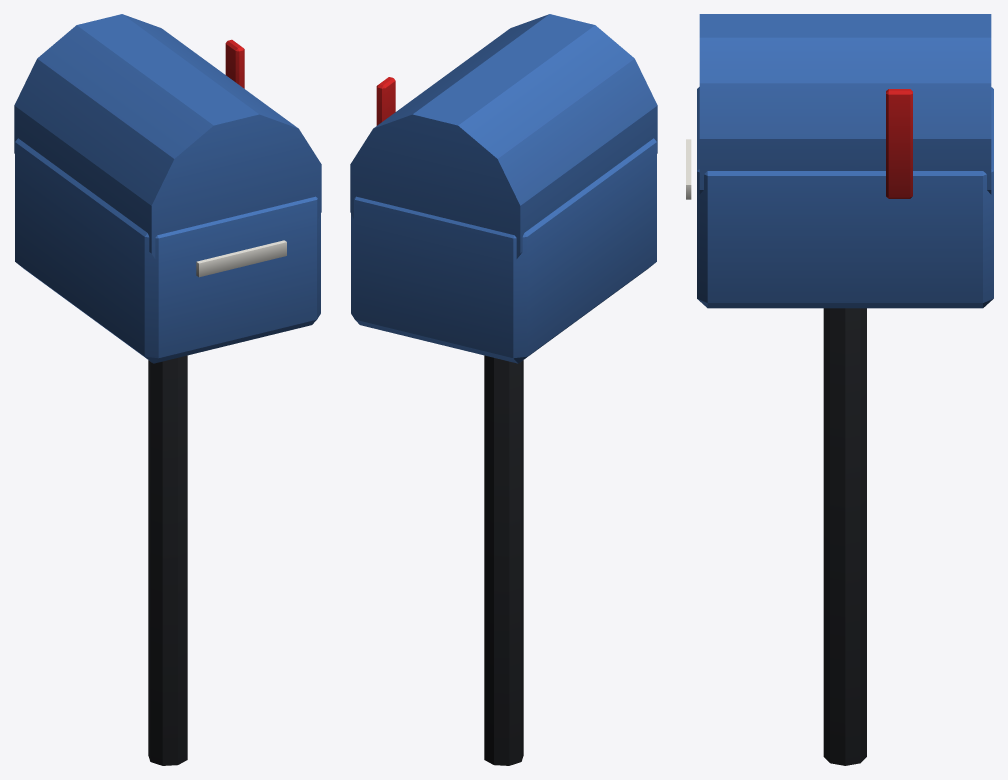
The model's file is mailbox_01.fbx.
3 views of the same model, side by side, from view 1: azimuth 30°, elevation 25°; view 2: azimuth 150°, elevation 25°; view 3: azimuth 270°, elevation 25° (orthographic). The views are drawn at different scales.
Parts seen in each view (by area): view 1: mailbox_01_LOD0; view 2: mailbox_01_LOD0; view 3: mailbox_01_LOD0.
Part boxes in pixels (left/top/right/bottom): mailbox_01_LOD0: left=14, top=14, right=321, bottom=765; mailbox_01_LOD0: left=350, top=14, right=657, bottom=765; mailbox_01_LOD0: left=686, top=14, right=993, bottom=765.
Size of what is drawn, in the model's own units: 0.42 by 1.49 by 0.57.
1 material, 1 textured.
